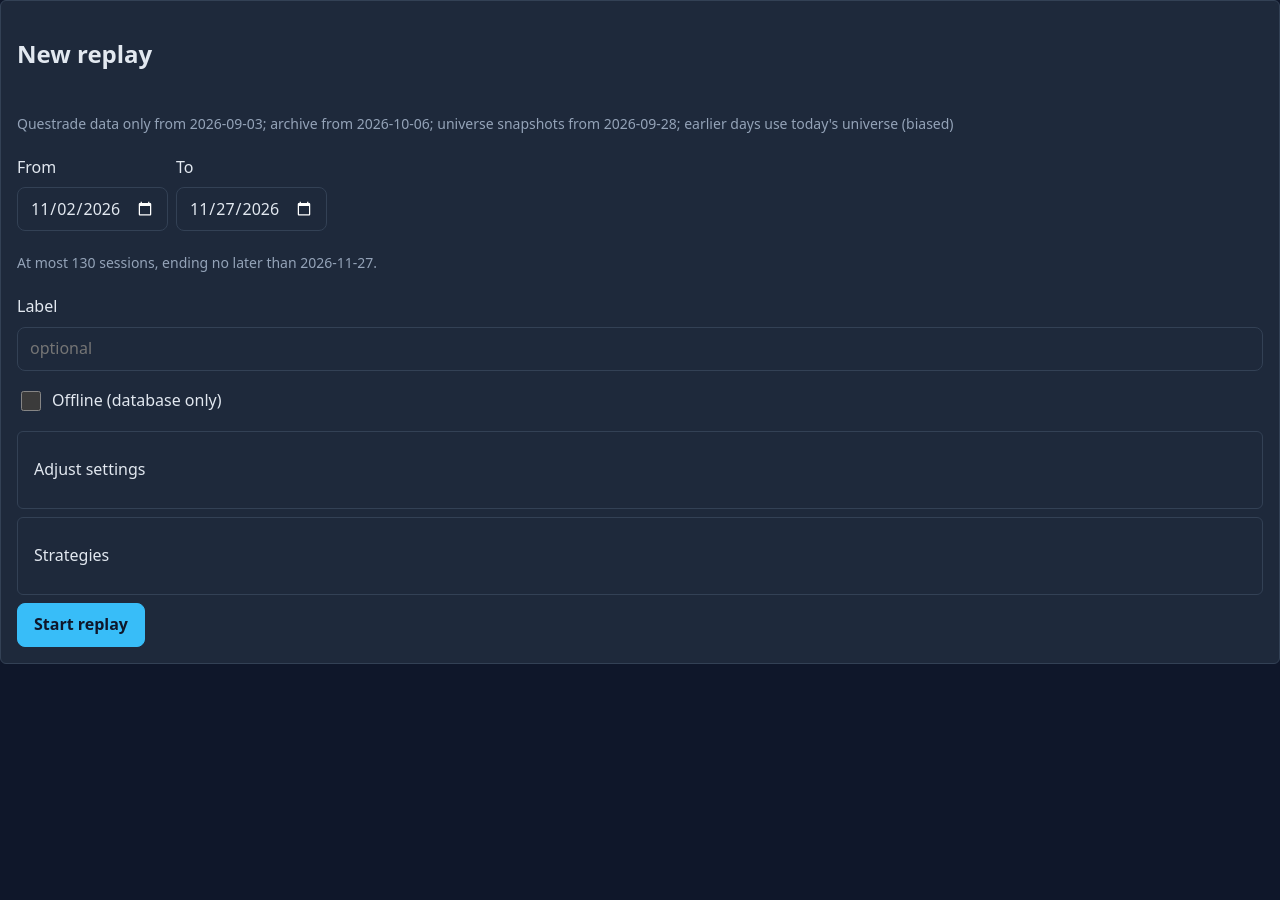
it: server errors (acceptance test 4) › a 409 shows the server message
Click the button "Start replay". click: (81, 625)
box: top-left (17, 603), bottom-right (145, 647)
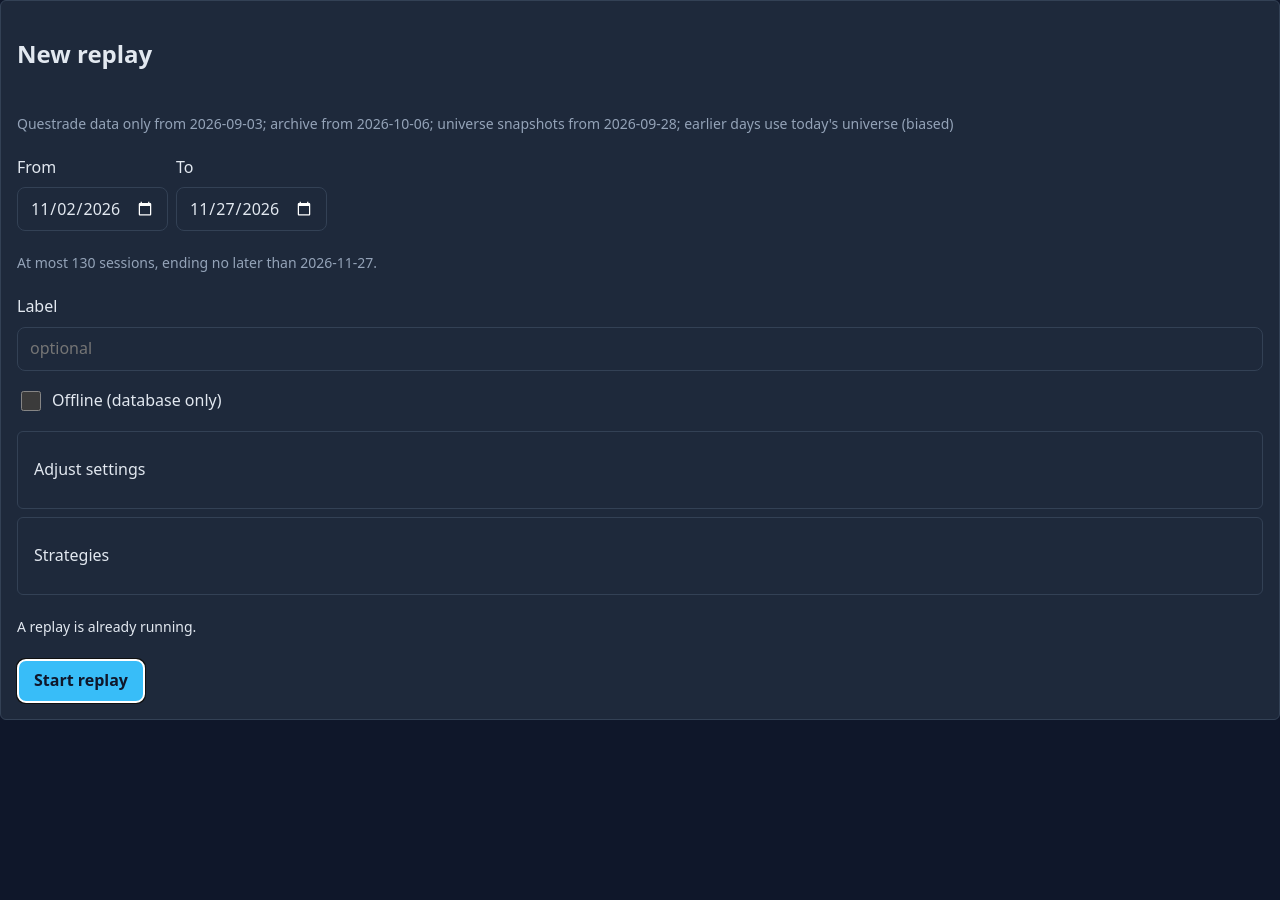
Expected: the message reads "A replay is already running.", top-left (17, 617), bottom-right (196, 636)
